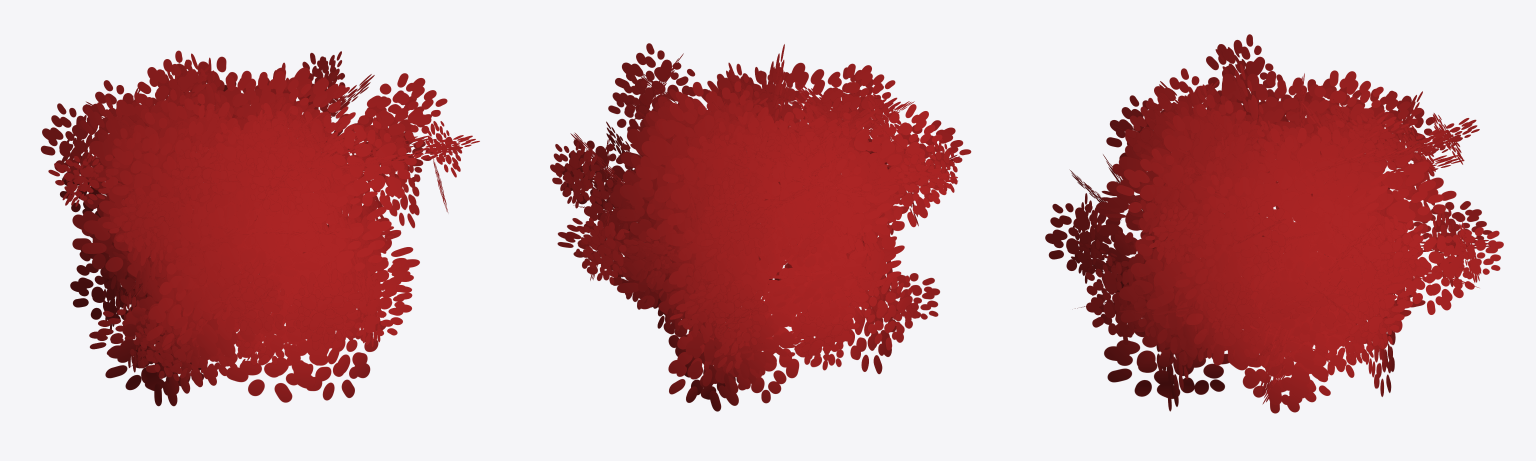
Rendered from bush-1.glb.
3 views of the same model, side by side, from view 1: azimuth 30°, elevation 25°; view 2: azimuth 150°, elevation 25°; view 3: azimuth 270°, elevation 25° (orthographic). The views are drawn at different scales.
Parts seen in each view (by area): view 1: Bush_Common; view 2: Bush_Common; view 3: Bush_Common.
Boxes of the visible parts, box(x1,y1,x2,y2) form: Bush_Common: box(40, 50, 479, 406); Bush_Common: box(550, 43, 971, 411); Bush_Common: box(1045, 34, 1503, 413).
Size of the model in its own units: 1.91 by 1.58 by 1.97.
1 material, 1 textured.
